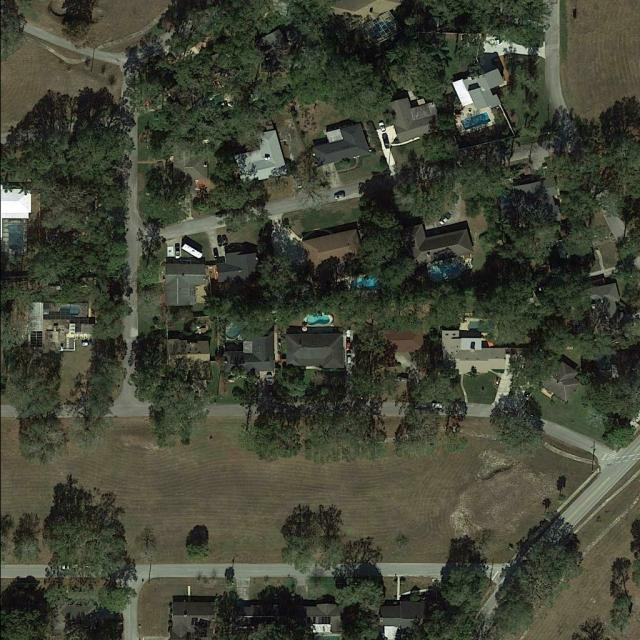small-vehicle: (438, 213, 451, 226), (381, 133, 391, 149), (491, 35, 503, 46), (524, 386, 534, 398), (333, 192, 346, 201), (431, 402, 446, 409), (394, 376, 409, 383), (62, 564, 78, 570), (212, 248, 219, 261), (216, 212, 228, 219), (175, 246, 181, 259), (81, 341, 94, 347), (222, 235, 228, 247), (267, 374, 273, 386), (379, 122, 386, 132), (346, 352, 351, 365), (217, 234, 222, 247), (346, 341, 351, 352), (346, 328, 351, 339)
